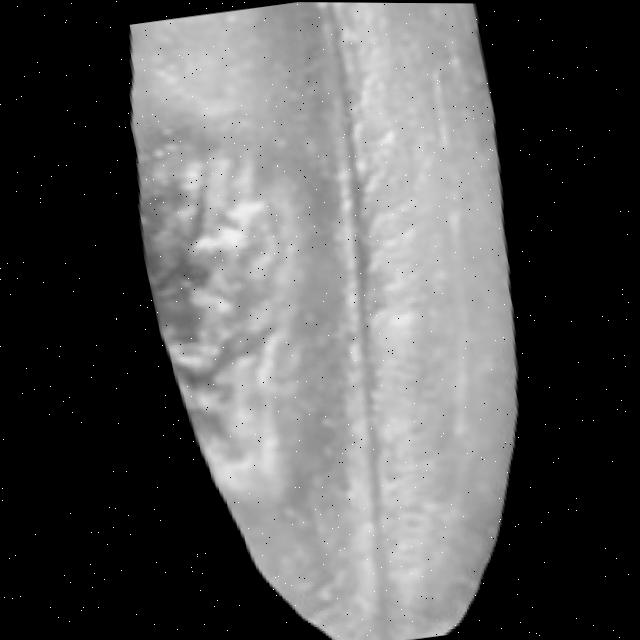mite: (214, 9, 247, 28)
spots: (91, 2, 603, 640)
sunburn: (113, 119, 328, 478)
